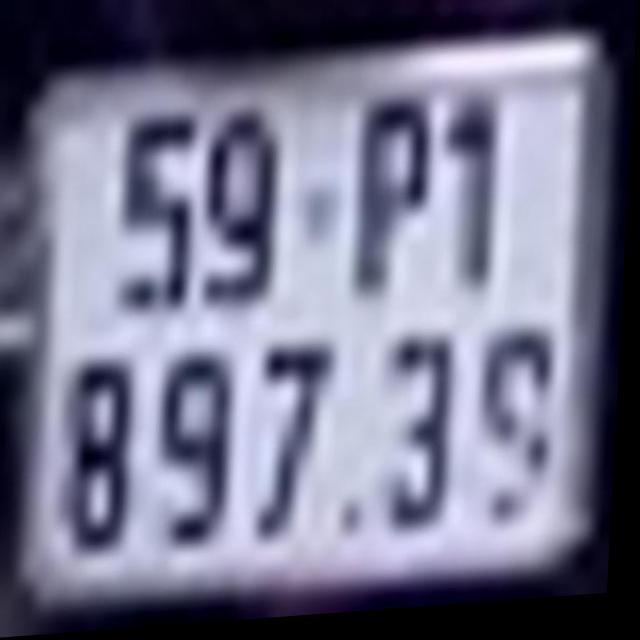1: (440, 86, 506, 300)
3: (375, 330, 462, 542)
5: (115, 110, 202, 314)
7: (252, 344, 344, 549)
8: (63, 350, 151, 573)
9: (469, 320, 562, 540), (199, 97, 288, 317), (161, 346, 237, 549)
P: (350, 96, 442, 316)
